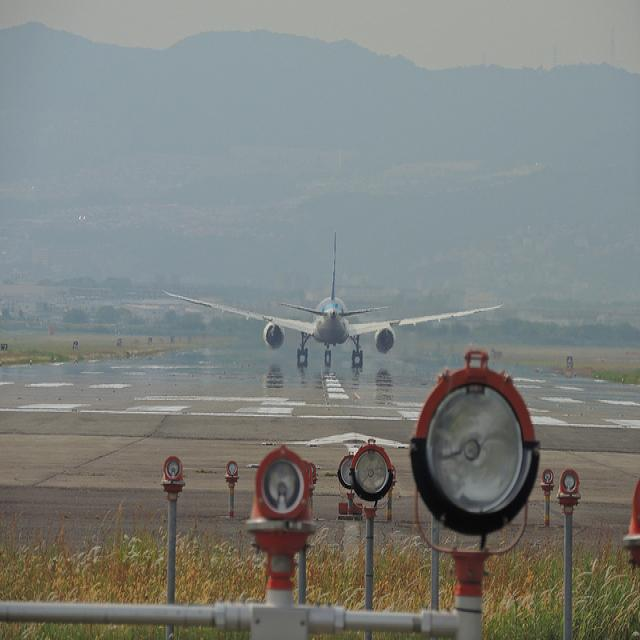airplane: (164, 229, 504, 368)
parking meter: (410, 348, 541, 535), (246, 448, 318, 608), (350, 443, 394, 503), (557, 469, 582, 515), (160, 457, 185, 500), (224, 460, 239, 488), (540, 468, 555, 492)
